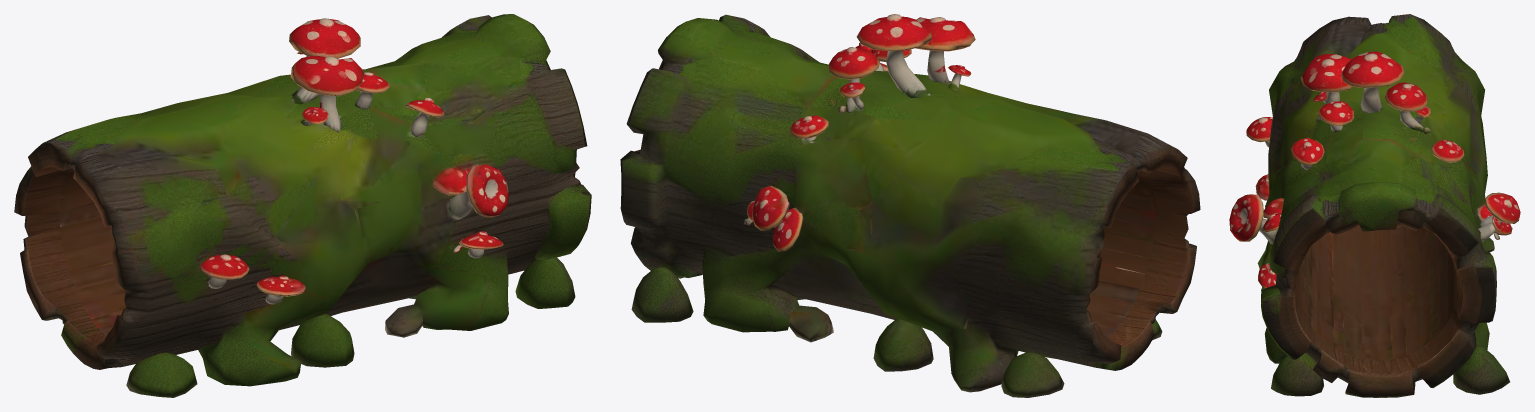
The model's file is mossy_log.glb.
3 views of the same model, side by side, from view 1: azimuth 30°, elevation 25°; view 2: azimuth 150°, elevation 25°; view 3: azimuth 270°, elevation 25° (orthographic). The views are drawn at different scales.
Bounding box in the file's own units: 0.957 × 0.5679 × 0.5835.
1 material, 1 textured.
